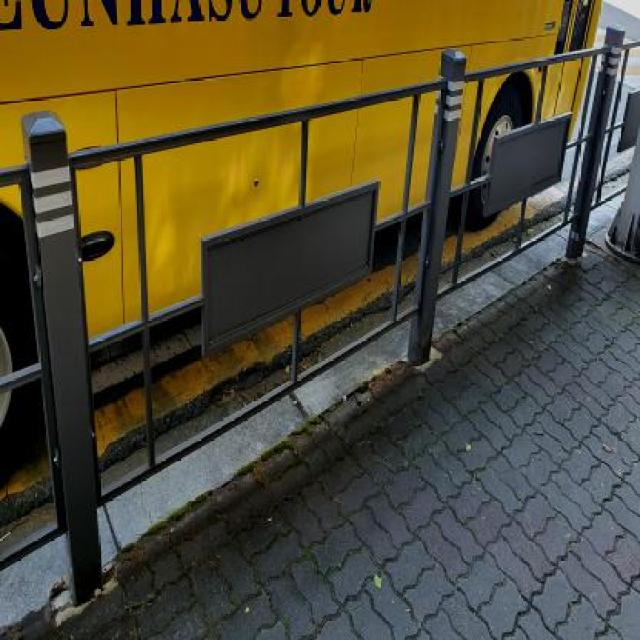fence: (1, 57, 471, 577), (414, 11, 640, 354)
